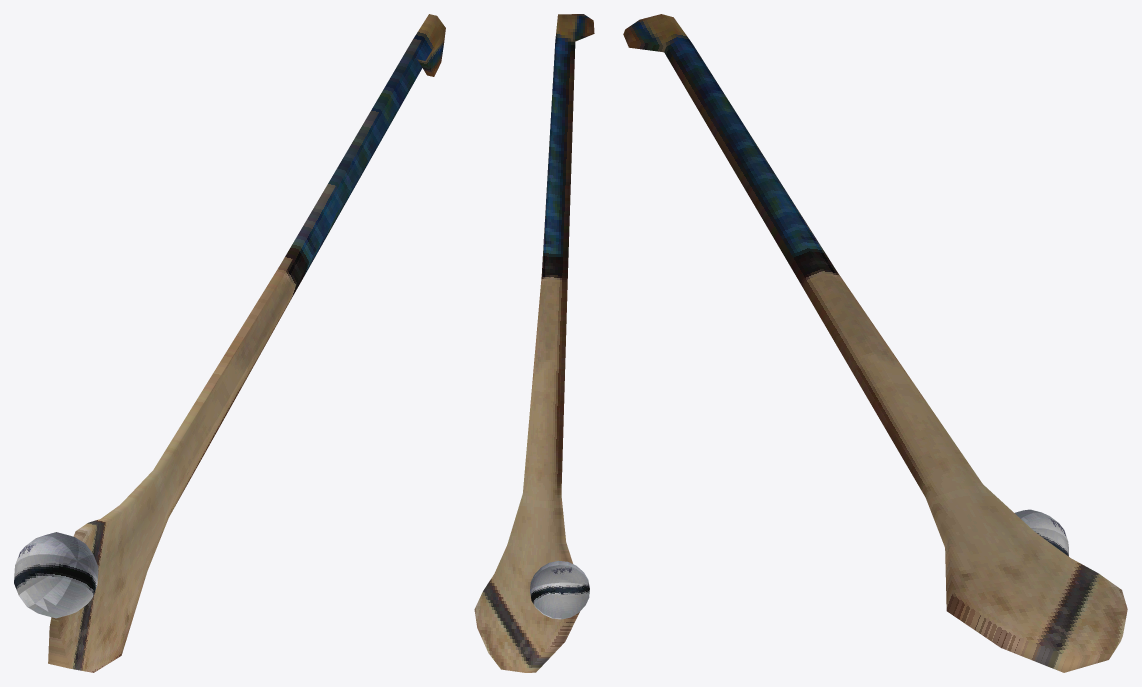
The model's file is ps2_save-icons_gaelicgameshurling.glb.
3 renders of one model, left to right at view 1: azimuth 30°, elevation 25°; view 2: azimuth 150°, elevation 25°; view 3: azimuth 270°, elevation 25°, orthographic. The views are drawn at different scales.
Visible parts, largest first — view 1: icon_v.ico; view 2: icon_v.ico; view 3: icon_v.ico.
Part boxes in pixels (x1,y1,x2,y2): icon_v.ico: (14, 14, 445, 672); icon_v.ico: (474, 14, 594, 672); icon_v.ico: (623, 14, 1127, 672).
Bounding box in the file's own units: 1.17 × 3.75 × 2.36.
1 material, 1 textured.
